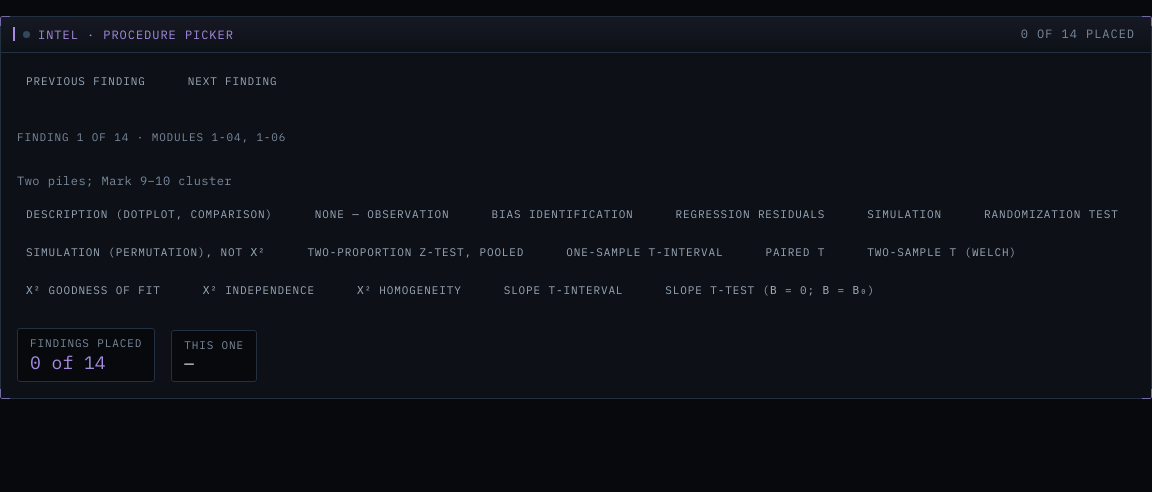
Test: <ProcedurePicker> › opens on the first finding and counts a correct placement
Expected: the text "INTEL · PROCEDURE PICKER" is shown, [23, 26, 234, 44]
Expected: the heading "Finding 1 of 14 · modules 1-04, 1-06" is shown, [17, 130, 286, 144]
Step 1. Click the button "Description (dotplot, comparison)" → (149, 215), box [17, 202, 282, 228]
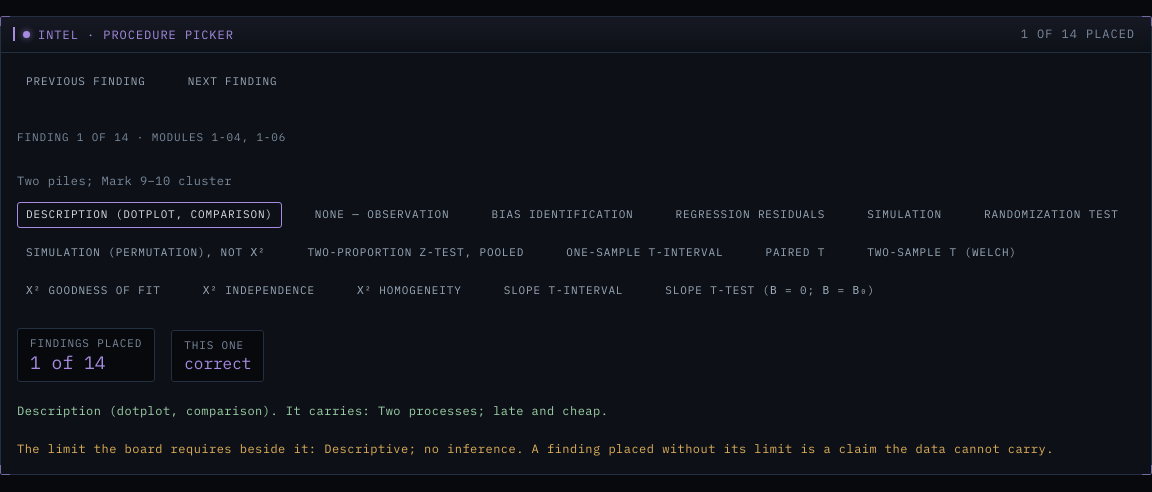
Expected: the text "correct" is shown, [184, 354, 251, 374]
Expected: the text "1 of 14" is shown, [30, 351, 106, 374]
Expected: the text "Descriptive; no inference" is shown, [324, 442, 516, 456]
